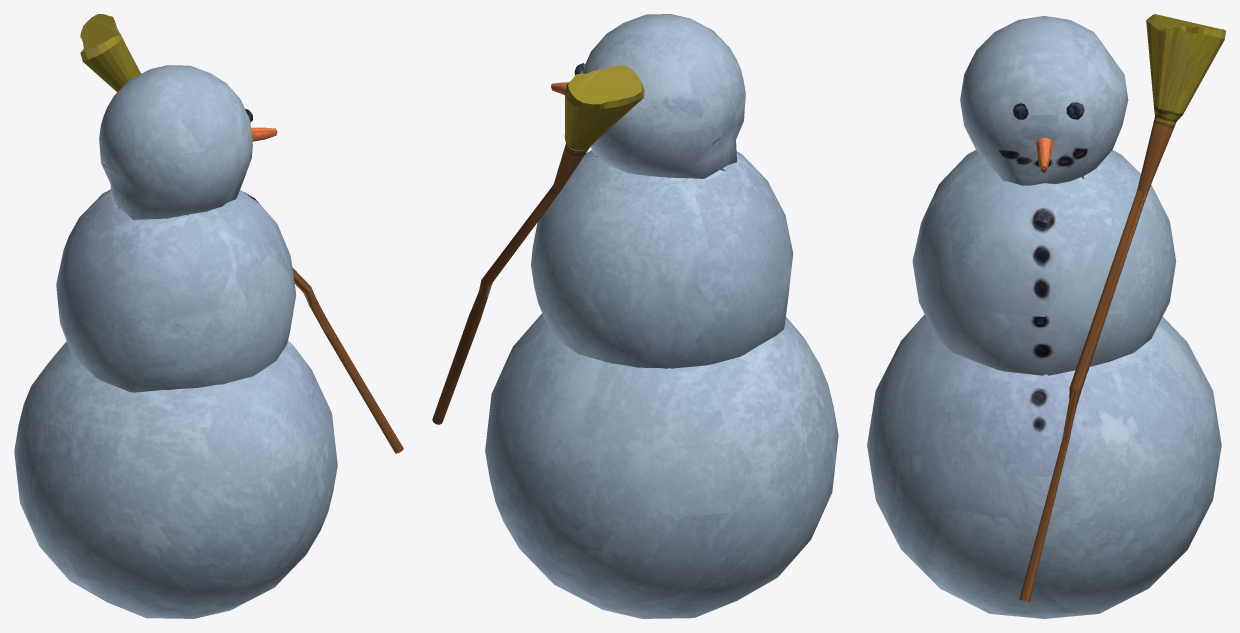
File: snowman.obj
3 views of the same model, side by side, from view 1: azimuth 30°, elevation 25°; view 2: azimuth 150°, elevation 25°; view 3: azimuth 270°, elevation 25° (orthographic). The views are drawn at different scales.
Visible parts, largest first — view 1: snowman_Icosphere.002; view 2: snowman_Icosphere.002; view 3: snowman_Icosphere.002.
Part boxes in pixels (x1=…): snowman_Icosphere.002: x1=14, y1=14, x2=403, y2=618; snowman_Icosphere.002: x1=432, y1=14, x2=838, y2=618; snowman_Icosphere.002: x1=867, y1=14, x2=1225, y2=618.
Bounding box in the file's own units: 2.55 × 3.63 × 2.02.
